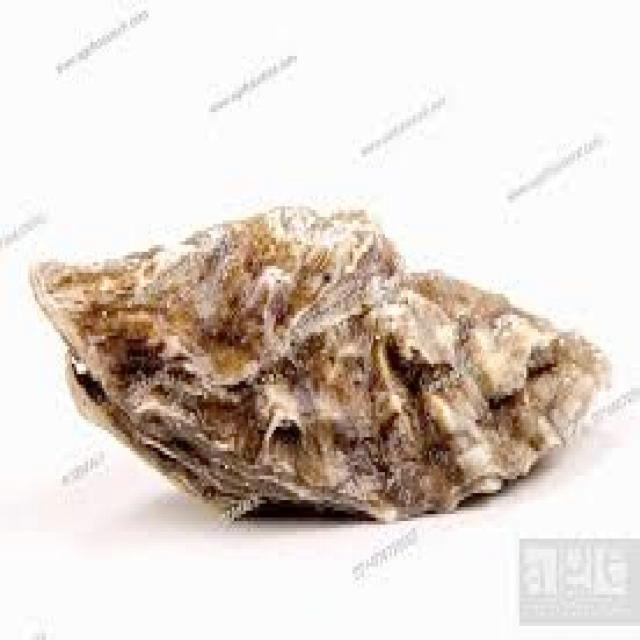Oyster-Open: (30, 206, 609, 521)
